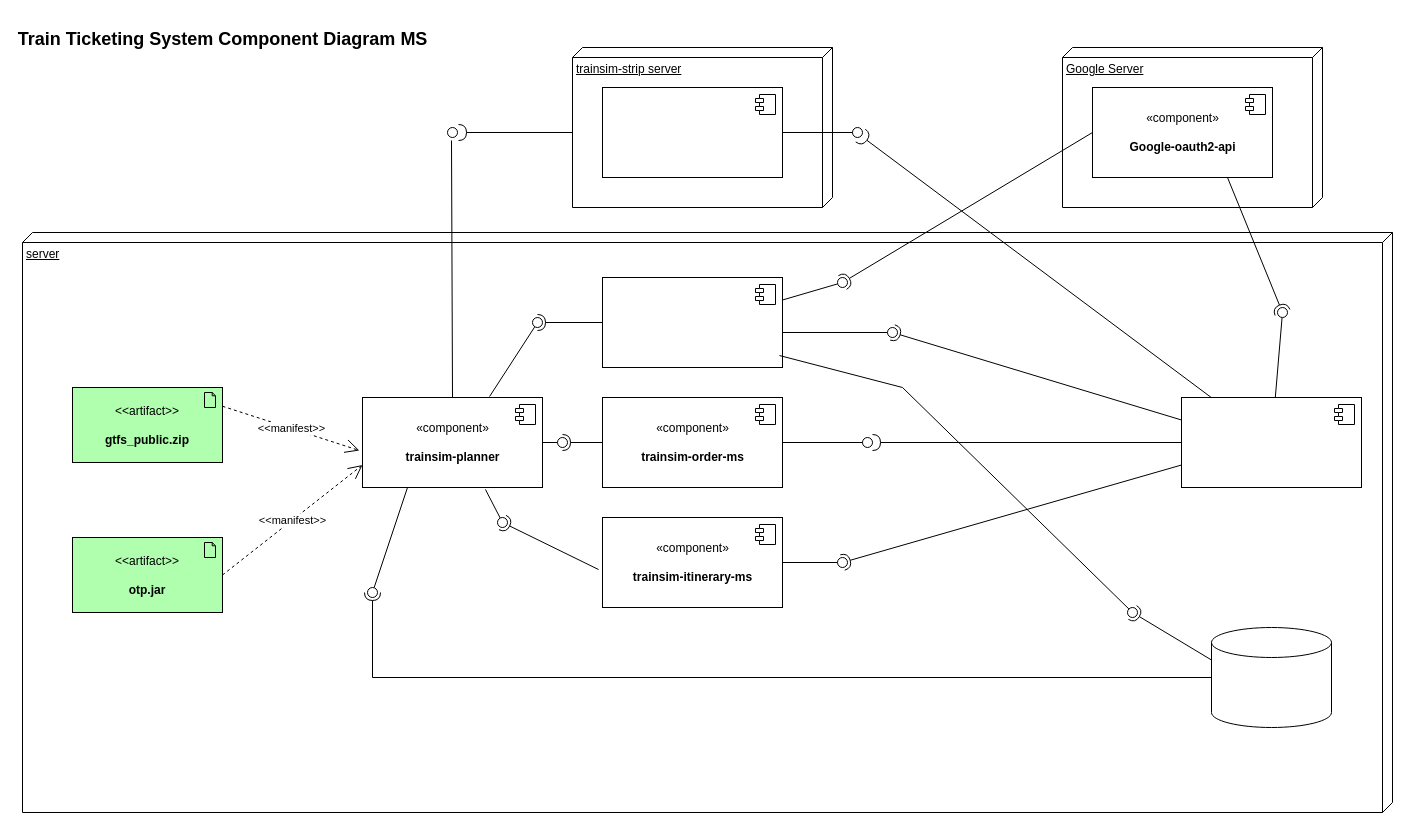
The diagram is 1410 pixels wide and 830 high, and some of its shapes have lost their labels. Here are the shapes that lost their labels. From the top down, the centre of each, then its label:
At [692,132]: "«component» trainsim-stripe-service".
At [692,322]: "«component» trainsim-users-ms".
At [1271,442]: "«component» trainsim-client".
At [1271,677]: "«component» trainsim-db".
